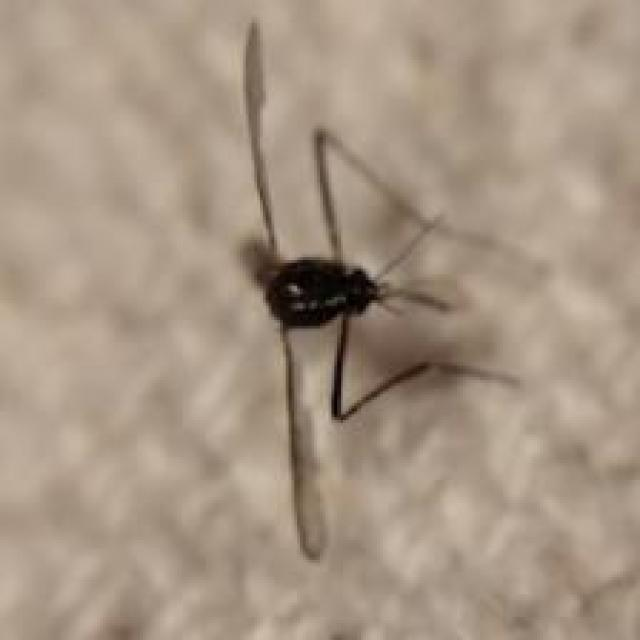Aedes albopictus: (234, 16, 540, 561)
